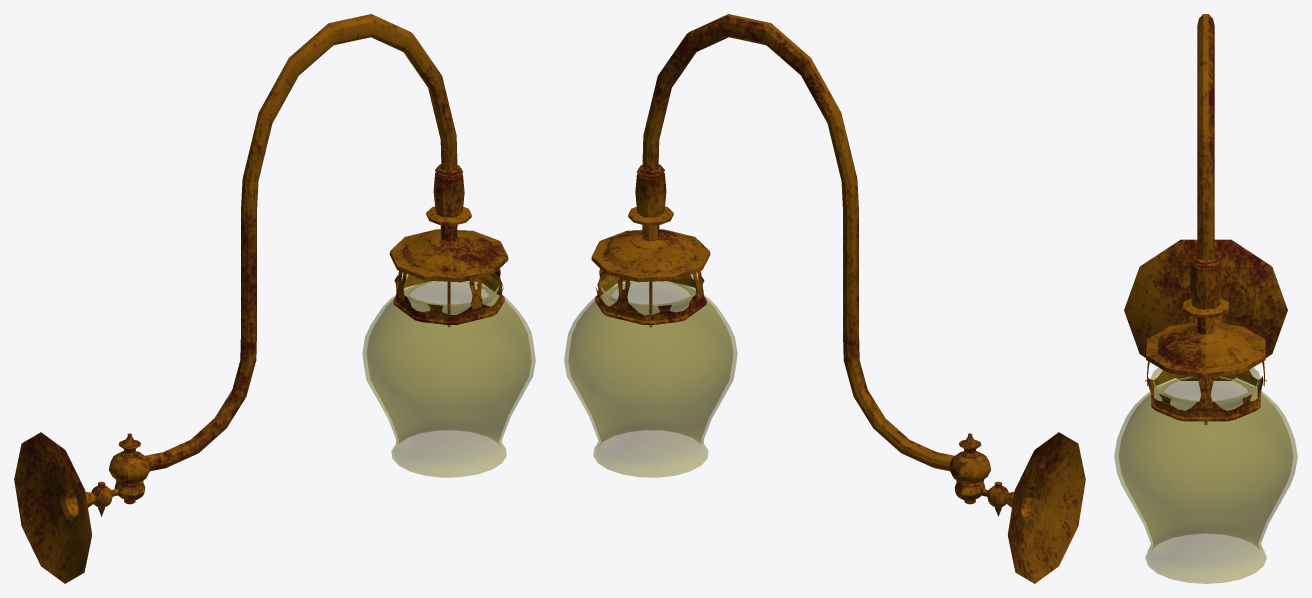
3 renders of one model, left to right at view 1: azimuth 30°, elevation 25°; view 2: azimuth 150°, elevation 25°; view 3: azimuth 270°, elevation 25°, orthographic. The views are drawn at different scales.
Parts seen in each view (by area): view 1: RustyWallLamp; view 2: RustyWallLamp; view 3: RustyWallLamp.
Boxes of the visible parts, x1,y1,x2,y2 form: RustyWallLamp: (14,14,535,583); RustyWallLamp: (564,14,1085,583); RustyWallLamp: (1114,14,1297,583).
Bounding box in the file's own units: 47.37 × 46.42 × 15.18.
Materials: 1 (1 with a texture image).
